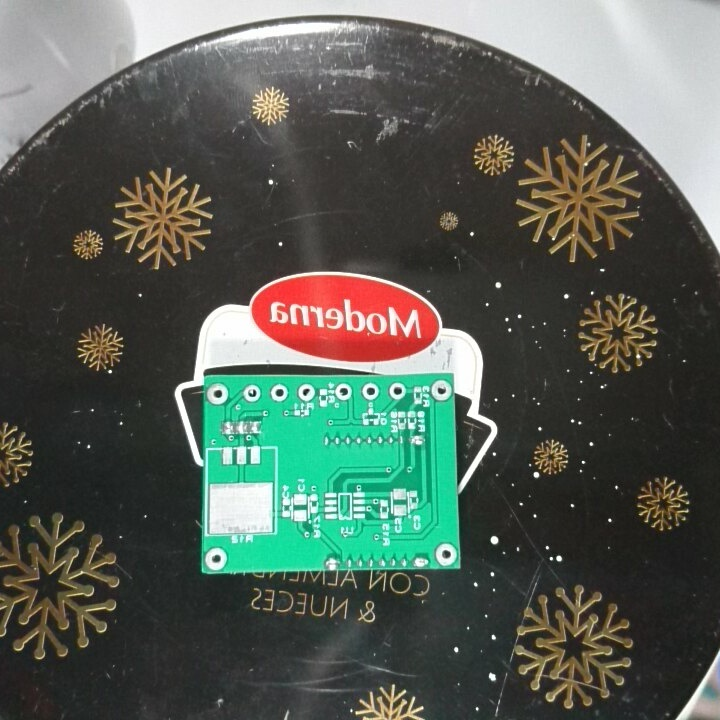F: (206, 381, 231, 406), (204, 546, 228, 572), (434, 540, 458, 566), (428, 378, 452, 403), (385, 379, 408, 402), (360, 380, 382, 402), (333, 381, 355, 403), (295, 383, 317, 403), (241, 382, 261, 403), (269, 383, 288, 403)
P: (410, 552, 431, 570), (322, 555, 343, 571), (408, 433, 428, 449)
